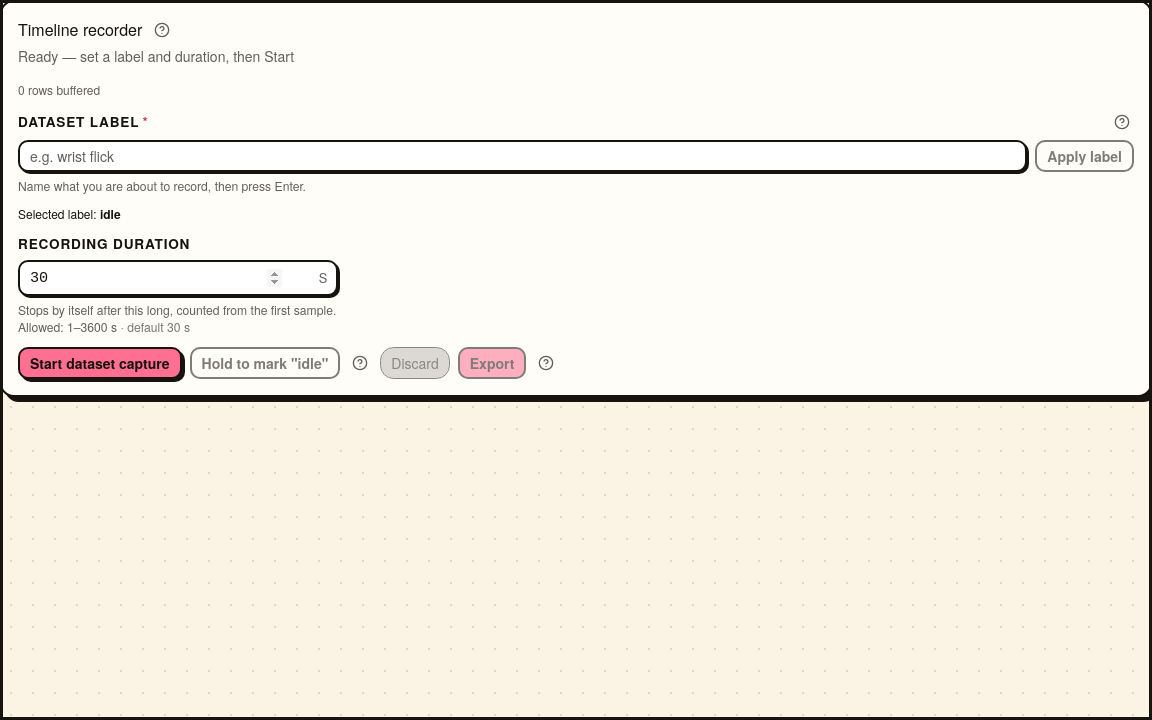
Test: DatasetCaptureCard › flags a label that can never be valid as soon as it is typed, without waiting for Apply
This screenshot has width=1152, height=720.
Type "9" into the field labelled "Dataset label" at [523, 156], box top-left (18, 140), bottom-right (1027, 172)
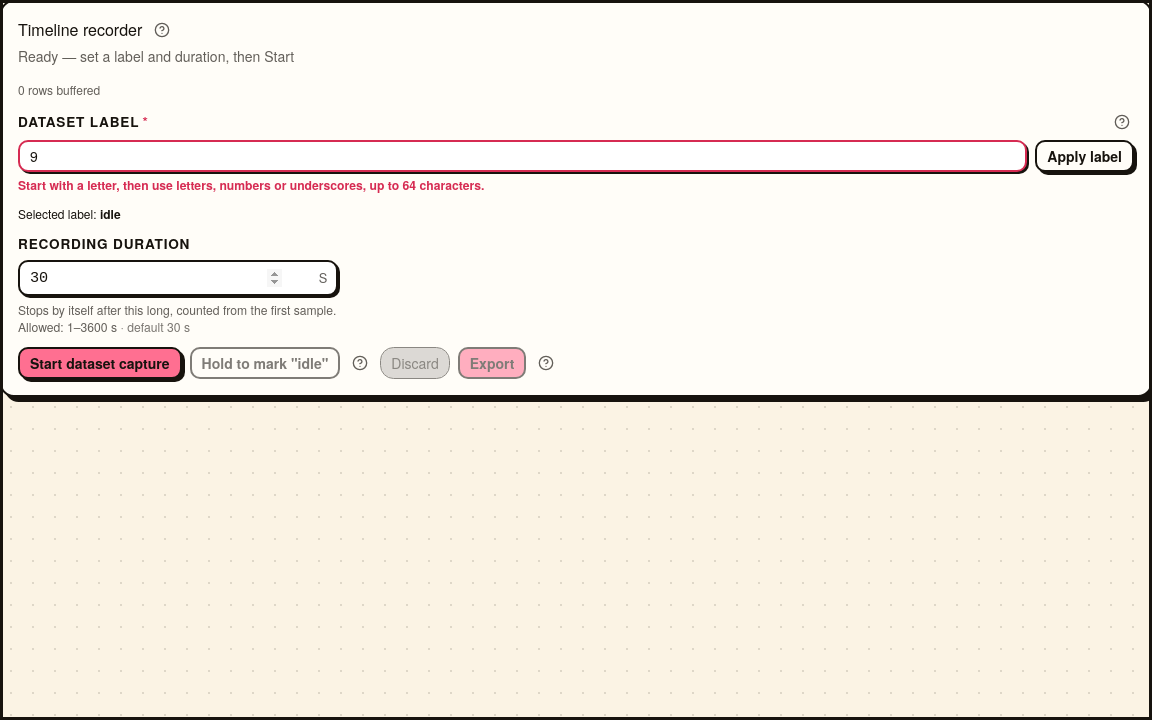
Expected: the message shows "Start with a letter", top-left (18, 176), bottom-right (484, 194)
